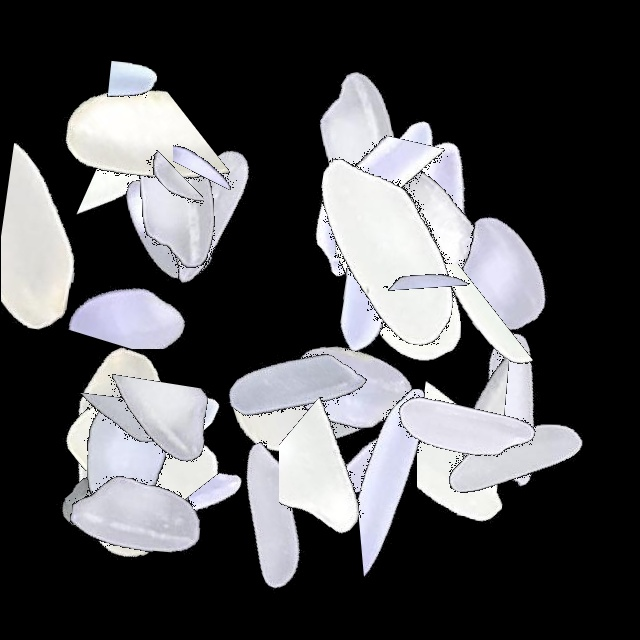Broken: (394, 79, 562, 329), (3, 354, 253, 520), (0, 88, 250, 247), (87, 325, 244, 575), (356, 357, 510, 607), (270, 139, 520, 284), (17, 206, 267, 349), (63, 463, 313, 606), (1, 116, 140, 366), (79, 325, 218, 575), (279, 344, 412, 594), (417, 323, 549, 573), (332, 75, 454, 325), (58, 333, 179, 583), (322, 345, 572, 461), (188, 388, 438, 503), (370, 110, 474, 360), (173, 4, 276, 254), (309, 264, 559, 364), (11, 449, 261, 543), (112, 93, 204, 343), (222, 435, 472, 526), (0, 413, 250, 502), (0, 169, 250, 257), (181, 385, 431, 471), (94, 251, 344, 336), (17, 114, 267, 198), (24, 46, 274, 127)
Full: (289, 97, 539, 347), (390, 283, 640, 533), (0, 331, 250, 581), (283, 86, 533, 336), (0, 375, 250, 625), (300, 102, 550, 352), (274, 137, 524, 387), (46, 104, 296, 354), (84, 91, 334, 341), (189, 290, 439, 540), (50, 72, 300, 322), (146, 390, 396, 640), (228, 260, 478, 510), (0, 328, 250, 578), (389, 334, 639, 584), (339, 303, 589, 553), (374, 148, 624, 398), (244, 125, 494, 375), (233, 20, 483, 270), (169, 263, 419, 513), (262, 127, 512, 377), (9, 390, 259, 640)
